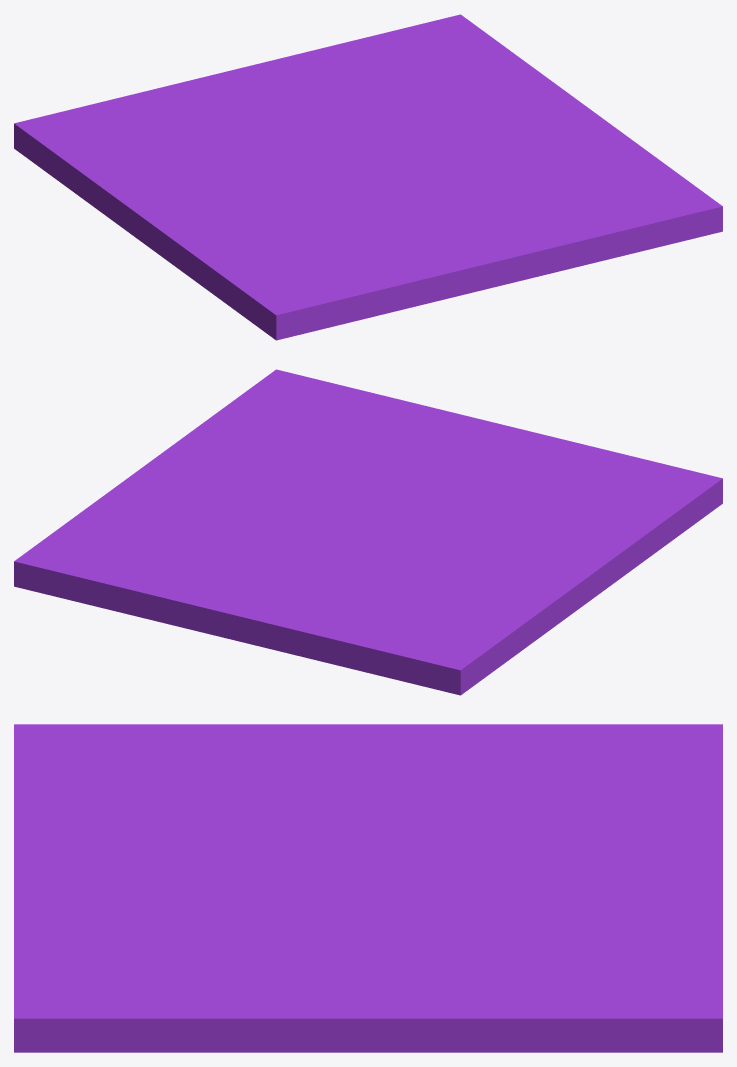
Rendered from Window_174_chunks.fbx.
3 views of the same model, one above another, from view 1: azimuth 30°, elevation 25°; view 2: azimuth 150°, elevation 25°; view 3: azimuth 270°, elevation 25° (orthographic). The views are drawn at different scales.
Visible parts, largest first — view 1: Window_174_15, Window_174_11, Window_174_9, Window_174_16, Window_174_31, Window_174_19, Window_174_20, Window_174_2, Window_174_3, Window_174_24, Window_174_18, Window_174_35 (+17 smaller); view 2: Window_174_15, Window_174_24, Window_174_34, Window_174_19, Window_174_31, Window_174_20, Window_174_2, Window_174_3, Window_174_33, Window_174_16, Window_174_11, Window_174_18 (+18 smaller); view 3: Window_174_31, Window_174_11, Window_174_15, Window_174_33, Window_174_29, Window_174_20, Window_174_2, Window_174_3, Window_174_16, Window_174_24, Window_174_9, Window_174_34 (+17 smaller).
Part boxes in pixels (left/top/right/bottom): Window_174_15: left=206, top=230, right=346, bottom=340; Window_174_11: left=547, top=177, right=722, bottom=268; Window_174_9: left=410, top=220, right=580, bottom=307; Window_174_16: left=335, top=215, right=440, bottom=323; Window_174_31: left=512, top=102, right=679, bottom=175; Window_174_19: left=14, top=120, right=147, bottom=213; Window_174_20: left=141, top=155, right=265, bottom=244; Window_174_2: left=238, top=126, right=352, bottom=227; Window_174_3: left=303, top=108, right=482, bottom=169; Window_174_24: left=28, top=90, right=209, bottom=150; Window_174_18: left=103, top=186, right=237, bottom=288; Window_174_35: left=323, top=72, right=496, bottom=117; Window_174_15: left=546, top=463, right=722, bottom=554; Window_174_24: left=324, top=594, right=446, bottom=679; Window_174_34: left=108, top=559, right=283, bottom=635; Window_174_19: left=437, top=592, right=564, bottom=695; Window_174_31: left=134, top=400, right=276, bottom=490; Window_174_20: left=426, top=526, right=596, bottom=599; Window_174_2: left=311, top=522, right=547, bottom=569; Window_174_3: left=241, top=476, right=356, bottom=572; Window_174_33: left=14, top=515, right=145, bottom=609; Window_174_16: left=439, top=443, right=660, bottom=492; Window_174_11: left=237, top=369, right=417, bottom=426; Window_174_18: left=526, top=528, right=652, bottom=629; Window_174_31: left=128, top=959, right=403, bottom=1052; Window_174_11: left=14, top=922, right=142, bottom=1052; Window_174_15: left=14, top=724, right=260, bottom=801; Window_174_33: left=524, top=966, right=722, bottom=1052; Window_174_29: left=369, top=964, right=569, bottom=1052; Window_174_20: left=236, top=744, right=511, bottom=809; Window_174_2: left=265, top=778, right=507, bottom=875; Window_174_3: left=280, top=872, right=570, bottom=934; Window_174_16: left=14, top=765, right=191, bottom=871; Window_174_24: left=532, top=733, right=722, bottom=827; Window_174_9: left=14, top=820, right=155, bottom=925; Window_174_34: left=553, top=877, right=722, bottom=941.
Size of the model in its own units: 1129 by 60.81 by 1149.
